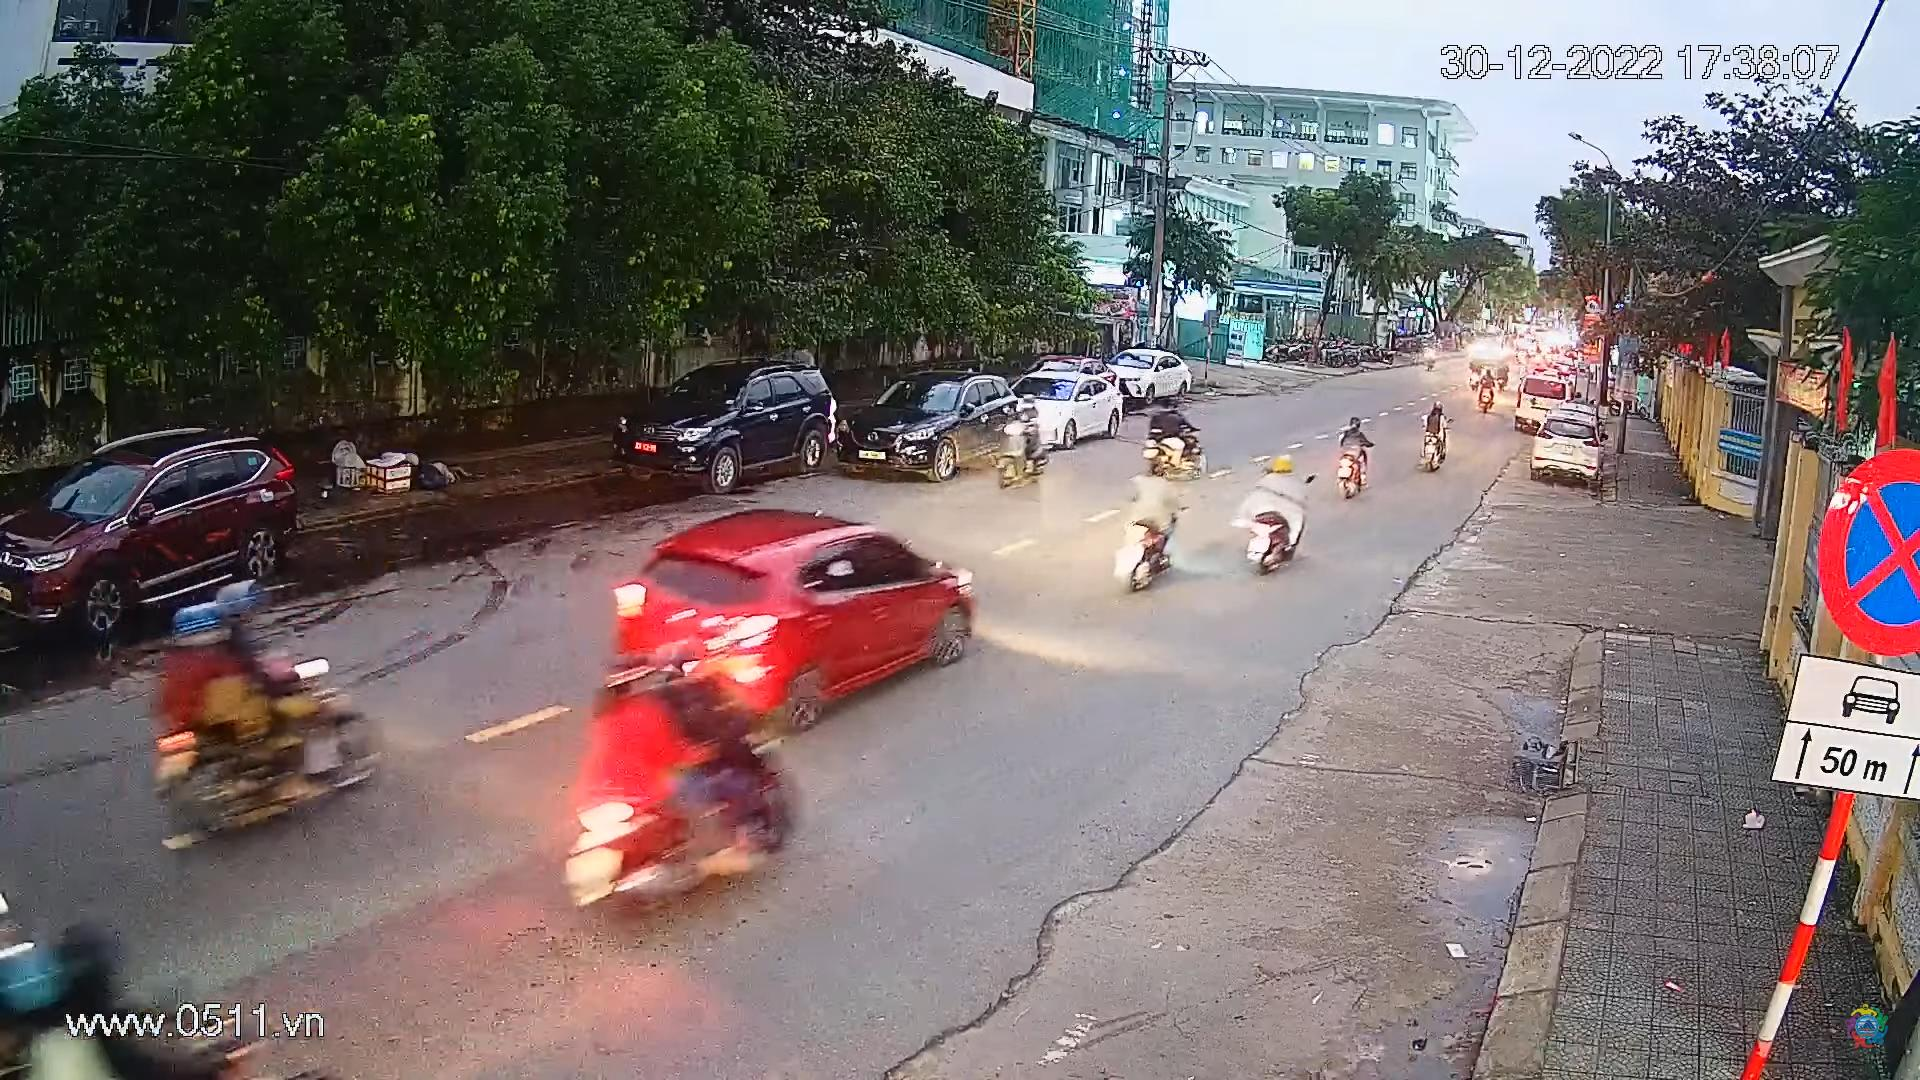car: (609, 493, 982, 738), (0, 418, 315, 661), (609, 351, 848, 496), (852, 360, 1015, 487), (1000, 356, 1121, 448), (1523, 406, 1615, 491), (1105, 343, 1205, 405), (1509, 376, 1582, 435)
motorcycle: (527, 647, 804, 898), (149, 584, 369, 864), (1109, 459, 1195, 601), (1237, 450, 1320, 580), (1135, 389, 1217, 489), (997, 392, 1058, 493), (1407, 393, 1469, 481), (1332, 413, 1374, 505), (1472, 368, 1497, 411)
